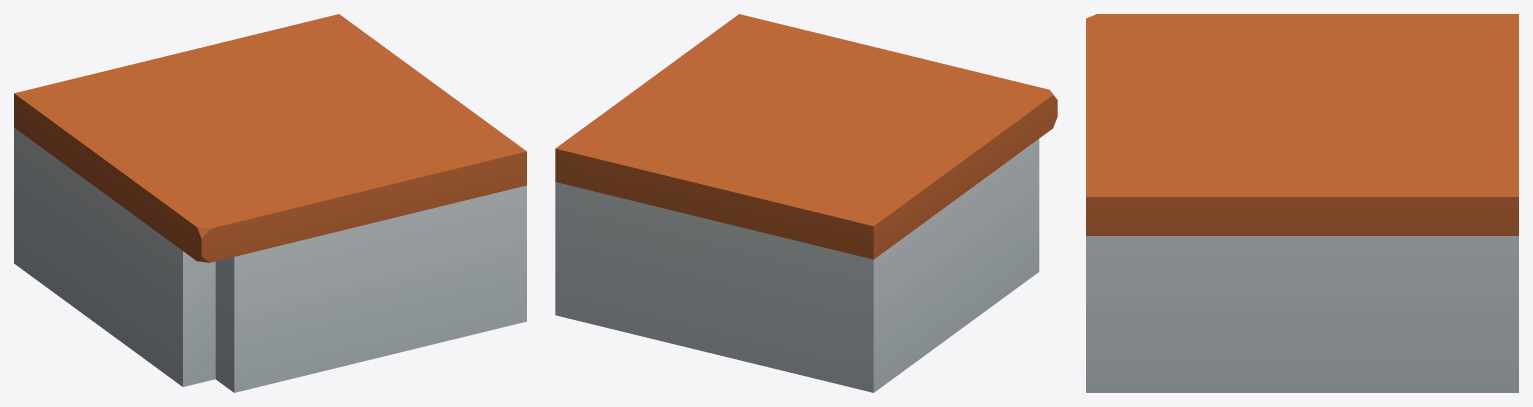
Rendered from kay-bancada-canto-interno.gltf.
3 views of the same model, side by side, from view 1: azimuth 30°, elevation 25°; view 2: azimuth 150°, elevation 25°; view 3: azimuth 270°, elevation 25° (orthographic). The views are drawn at different scales.
Visible parts, largest first — view 1: kitchencounter_innercorner; view 2: kitchencounter_innercorner; view 3: kitchencounter_innercorner.
Part boxes in pixels (left/top/right/bottom): kitchencounter_innercorner: left=14, top=14, right=526, bottom=392; kitchencounter_innercorner: left=555, top=14, right=1057, bottom=392; kitchencounter_innercorner: left=1086, top=14, right=1518, bottom=392.
Bounding box in the file's own units: 1.3 × 0.6501 × 1.3.
Materials: 1 (1 with a texture image).
